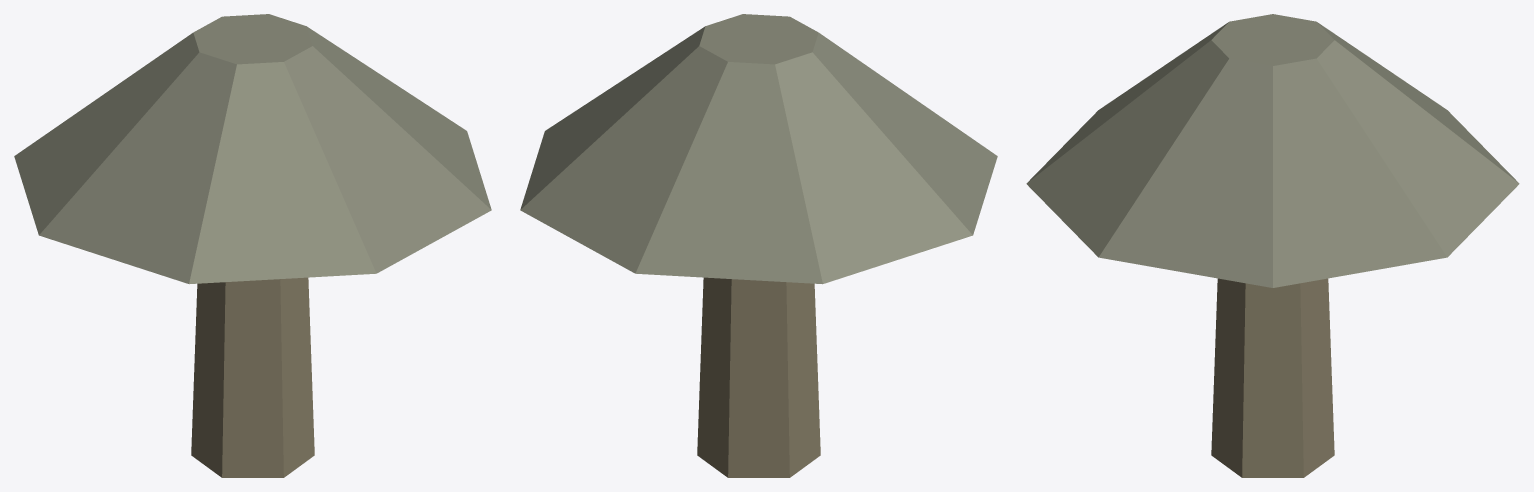
File: forest-mushroom-2.glb
The picture shows the model from 3 angles, left to right: view 1: azimuth 30°, elevation 25°; view 2: azimuth 150°, elevation 25°; view 3: azimuth 270°, elevation 25°; orthographic projection.
Visible parts, largest first — view 1: forest-mushroom-2; view 2: forest-mushroom-2; view 3: forest-mushroom-2.
Part boxes in pixels (x1=…): forest-mushroom-2: x1=14, y1=14, x2=491, y2=477; forest-mushroom-2: x1=520, y1=14, x2=997, y2=477; forest-mushroom-2: x1=1026, y1=14, x2=1519, y2=477.
Bounding box in the file's own units: 0.28 × 0.26 × 0.28.
